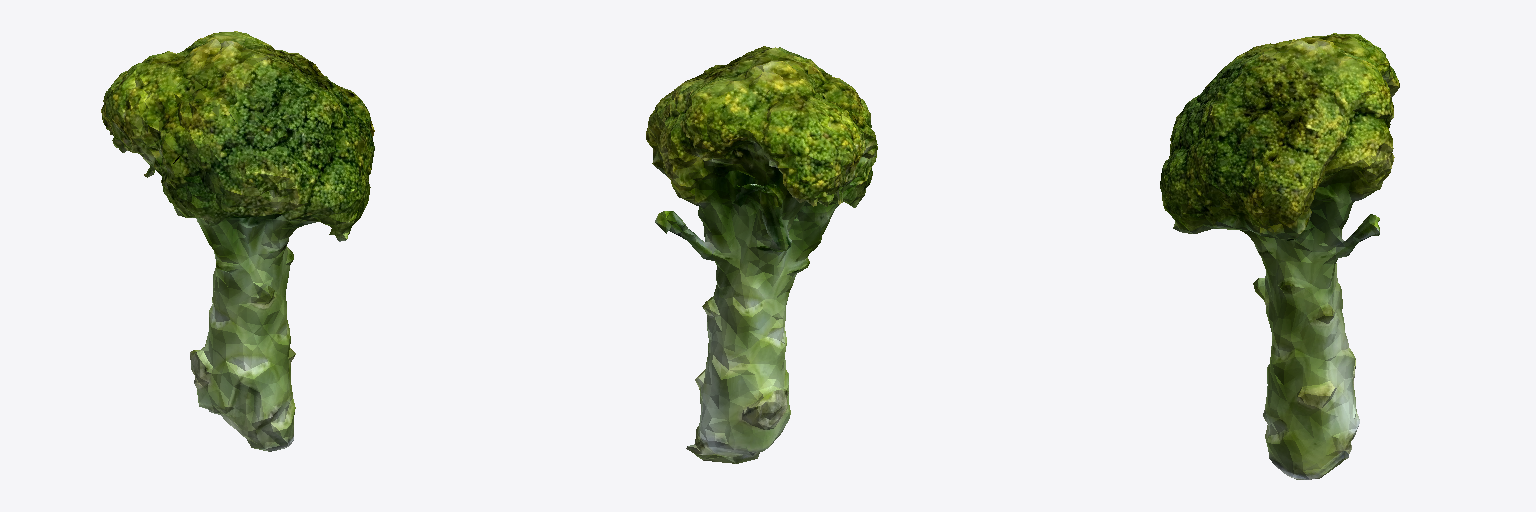
The picture shows the model from 3 angles: view 1: azimuth 30°, elevation 25°; view 2: azimuth 150°, elevation 25°; view 3: azimuth 270°, elevation 25°; orthographic projection.
Visible parts, largest first — view 1: broccoli; view 2: broccoli; view 3: broccoli.
Boxes of the visible parts, x1,y1,x2,y2 form: broccoli: [101, 31, 374, 451]; broccoli: [646, 46, 877, 463]; broccoli: [1160, 33, 1399, 479].
Bounding box in the file's own units: 1.08 × 1.85 × 0.9769.
1 materials, 1 textured.